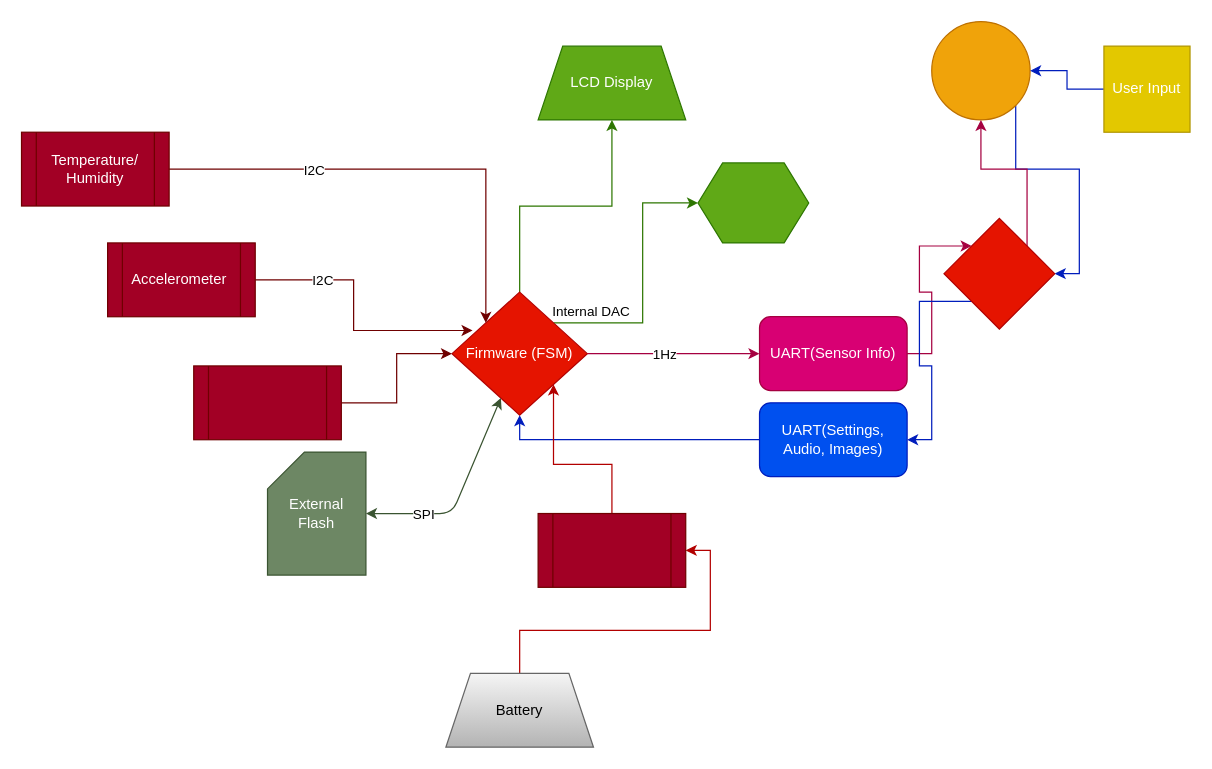
Some shapes in this 1212 by 769 pixel diagram are drawn without their labels. The centre of each missing label's shape, as x and y in pixels:
"GUI" goes at (980,70).
"Light Sensor" goes at (266,402).
"Seeduino Seriel Conv" goes at (999,273).
"Speaker" goes at (753,202).
"Voltage Sensor" goes at (611,549).
